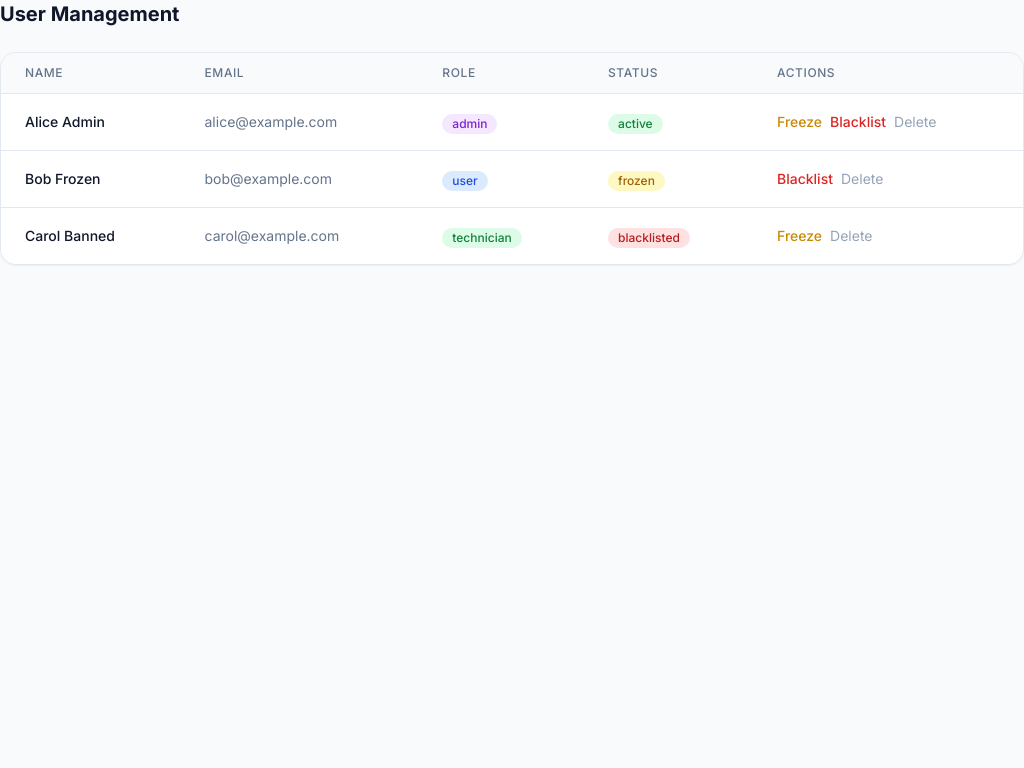
Test: AdminUsersView › freeze modal › opens modal with user name when Freeze is clicked
Click the button "Freeze" in the row of "Alice Admin": {"x": 800, "y": 122} [777,112,822,132]
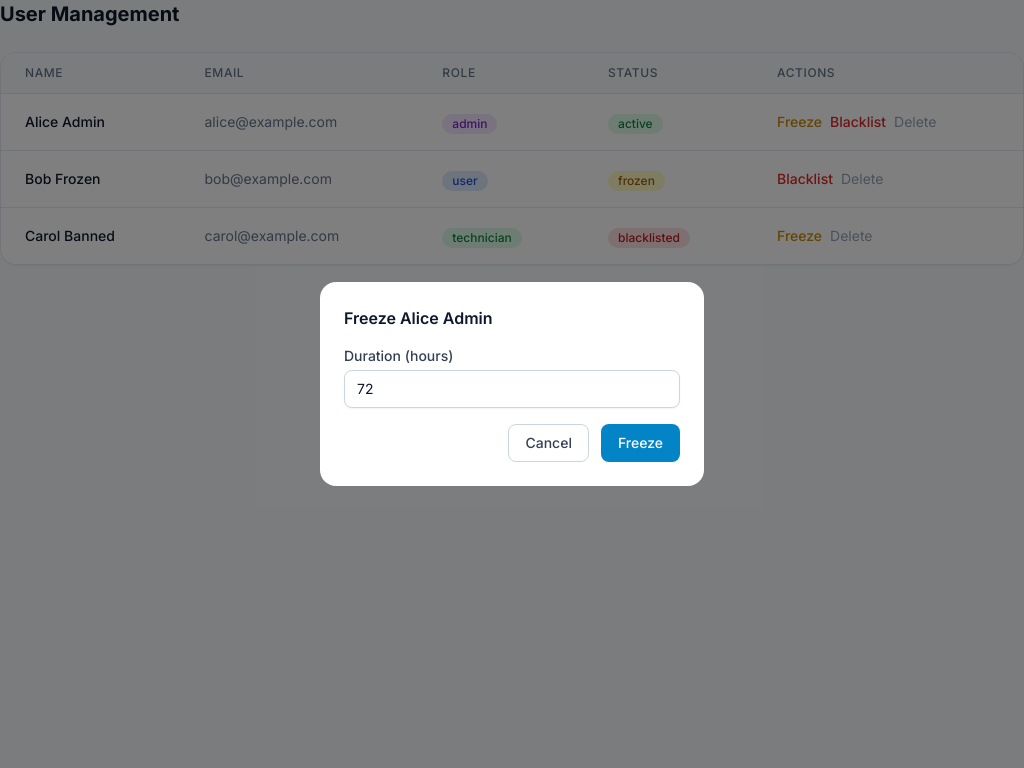
Expected: the text "Freeze Alice Admin" is shown, [344,308,492,328]
